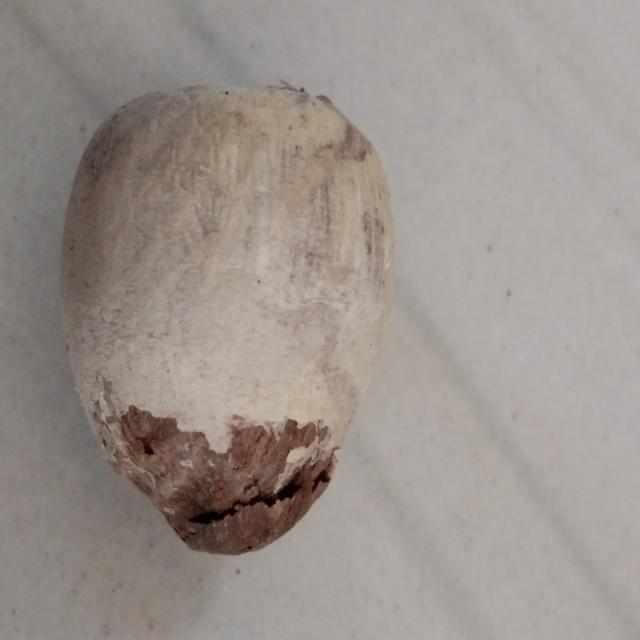karigot: (38, 42, 405, 570)
